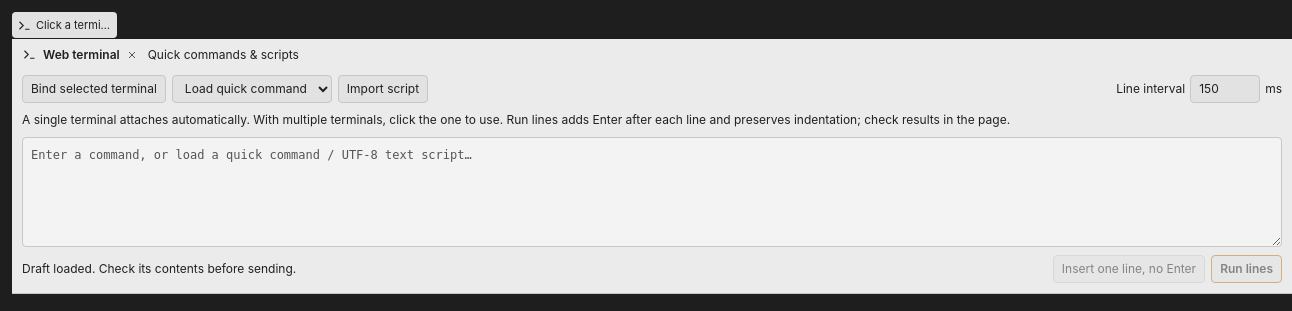
Test: 网页终端工具 › 发送过程中暂停探测，不确定结果不会被重新附着提示覆盖
Click the button "Bind selected terminal": (94, 88) [22, 74, 166, 102]
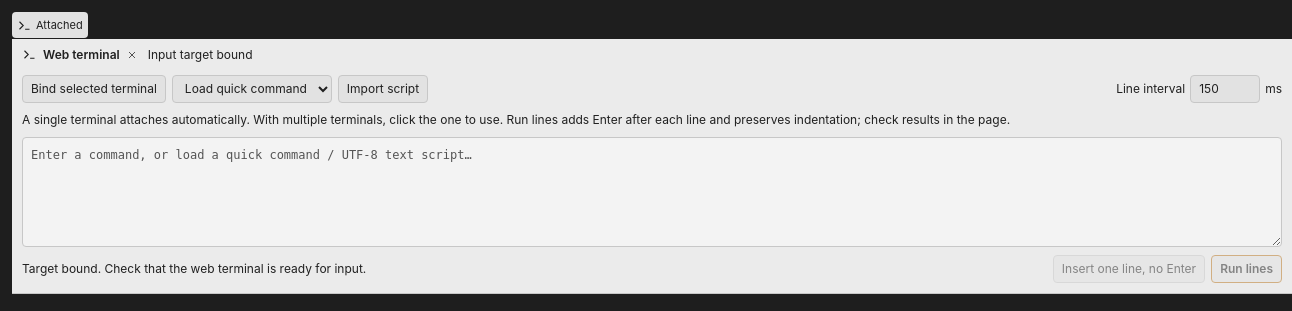
Replace the text in the text box with "first": (652, 192) [22, 136, 1282, 246]
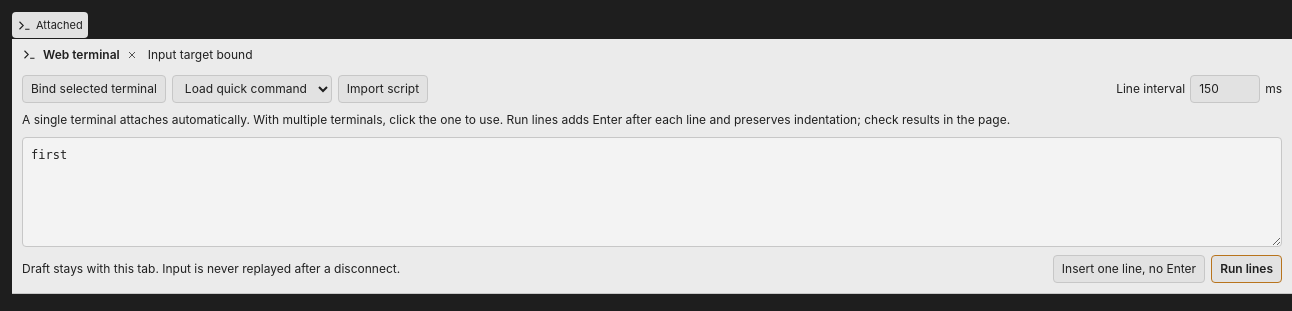
Click the button "Run lines": (1247, 268) [1211, 254, 1282, 282]
Wait 1500 ms
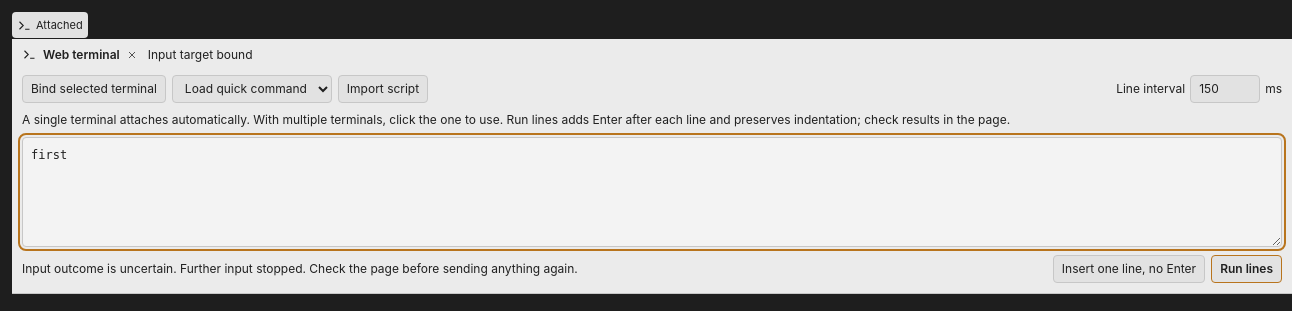
Check: the message shows "uncertain", box [22, 260, 578, 276]
